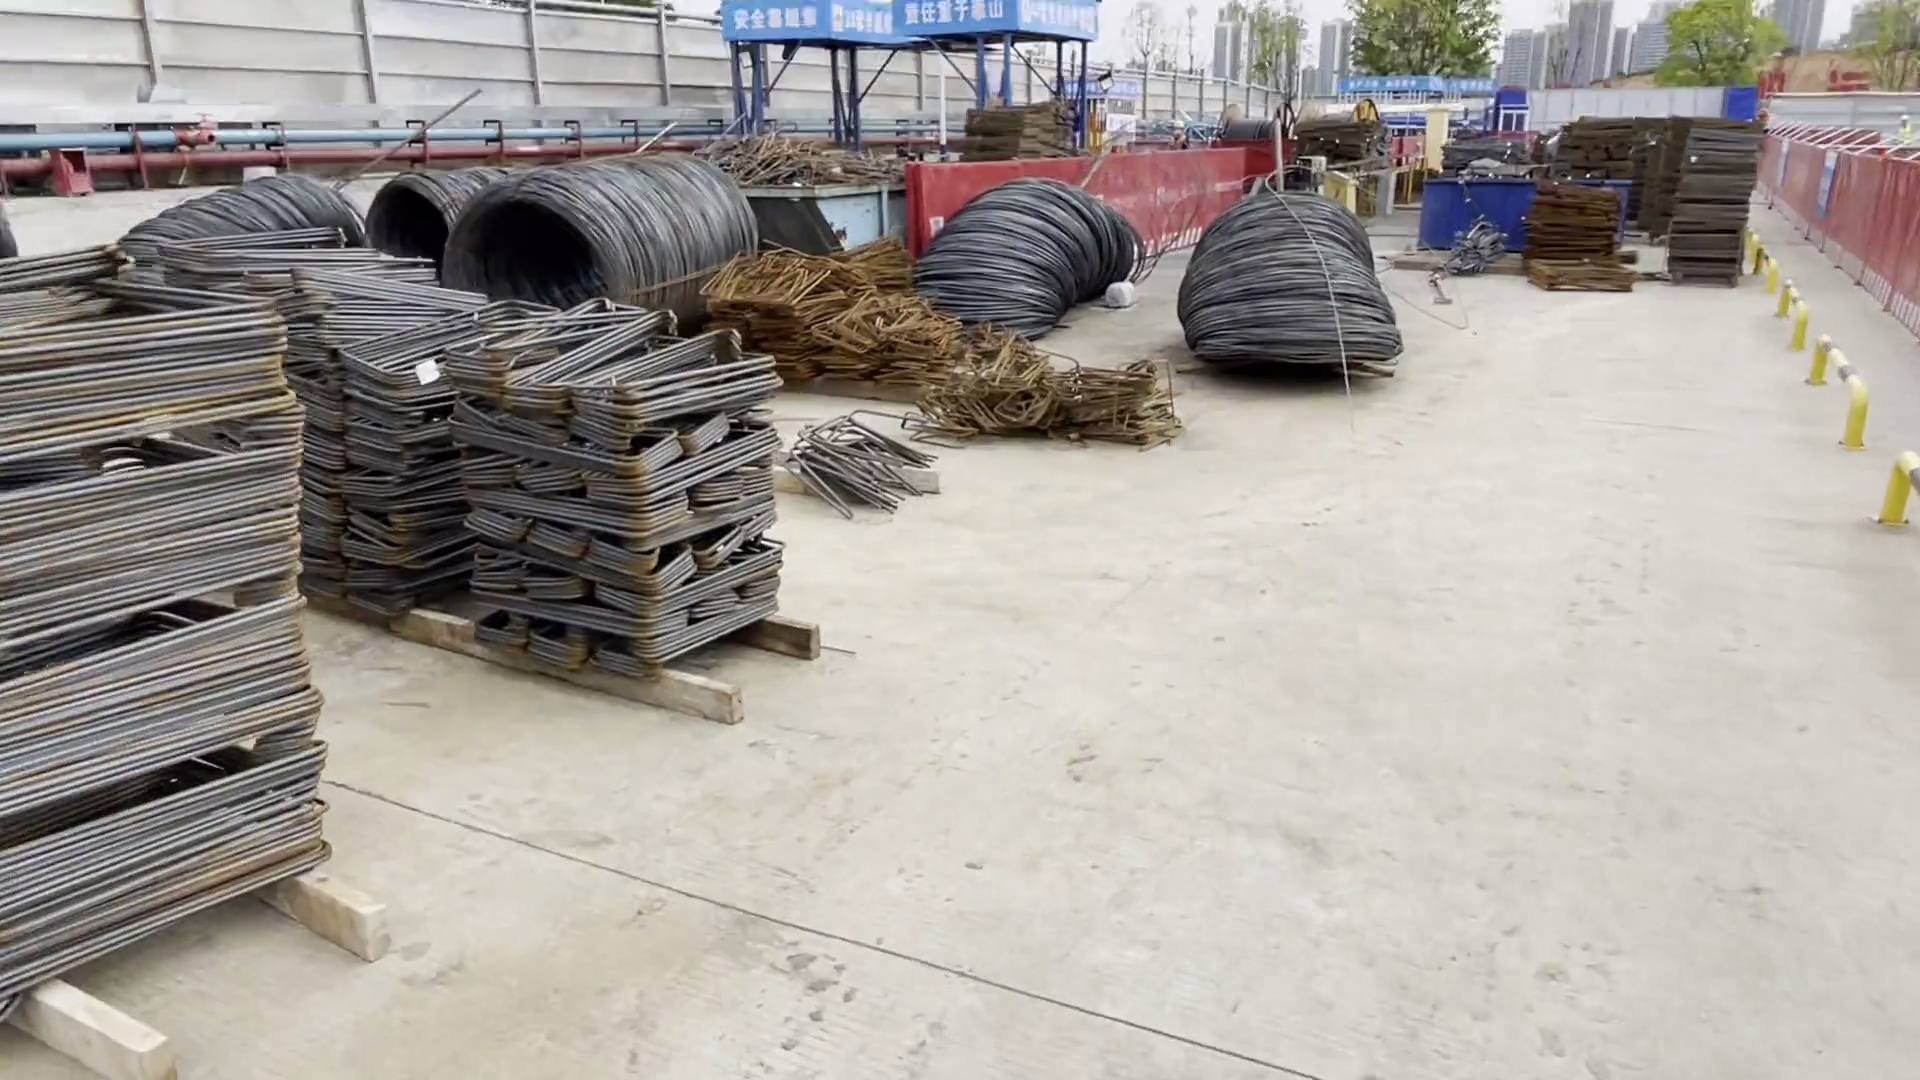fence: (910, 141, 1242, 236), (1766, 130, 1920, 322)
hopper: (1408, 172, 1650, 256), (746, 173, 916, 252)
person: (1169, 122, 1189, 150), (1891, 113, 1906, 142)
slogan: (721, 5, 904, 47), (900, 5, 1092, 41), (1348, 78, 1487, 91)
